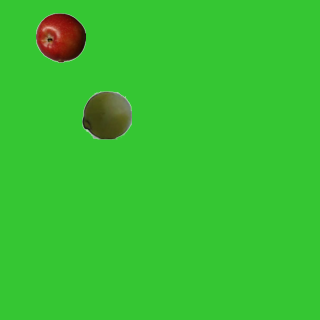Apple Braeburn: (35, 12, 85, 62)
Grape White 4: (81, 89, 131, 139)
